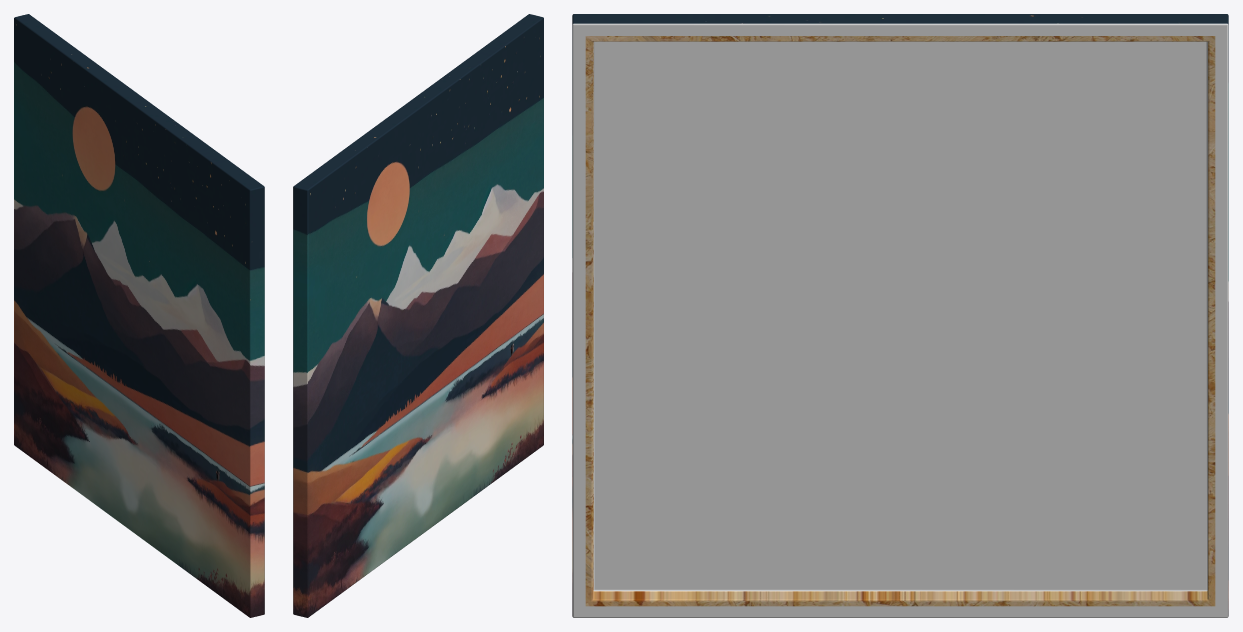
File: MOD_ART_ThreeRooms.fbx_Wall_Painting_M3.fbx
3 renders of one model, left to right at view 1: azimuth 30°, elevation 25°; view 2: azimuth 150°, elevation 25°; view 3: azimuth 270°, elevation 25°, orthographic. The views are drawn at different scales.
Visible parts, largest first — view 1: Painting 3; view 2: Painting 3; view 3: Painting 3.
Part boxes in pixels (x1,y1,x2,y2): Painting 3: (14, 14, 264, 617); Painting 3: (293, 14, 543, 617); Painting 3: (572, 14, 1228, 617).
Size of the model in its own units: 1.5 by 40 by 40.
3 materials, 2 textured.
